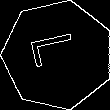L_E: (29, 34, 86, 76)
